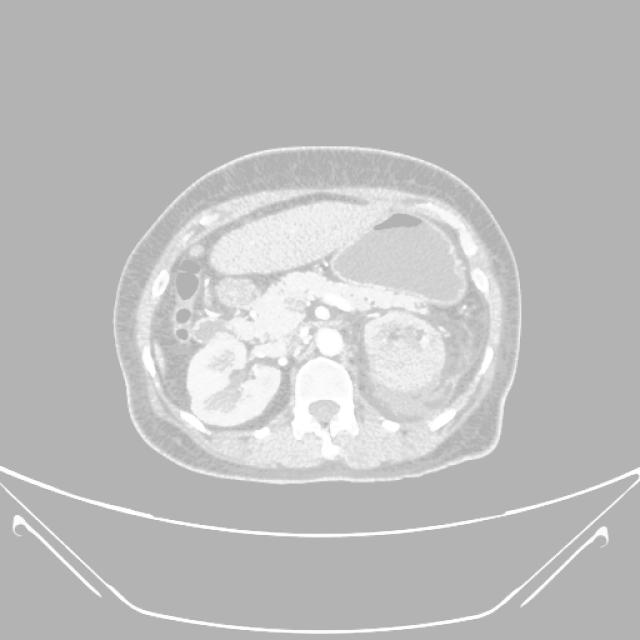TUMOR: (90, 181, 455, 380)
